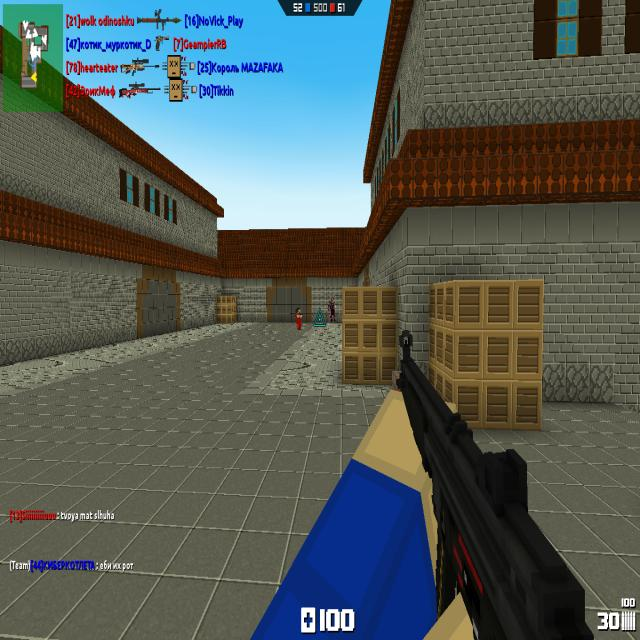enemy: (328, 298, 335, 322), (296, 307, 302, 331)
